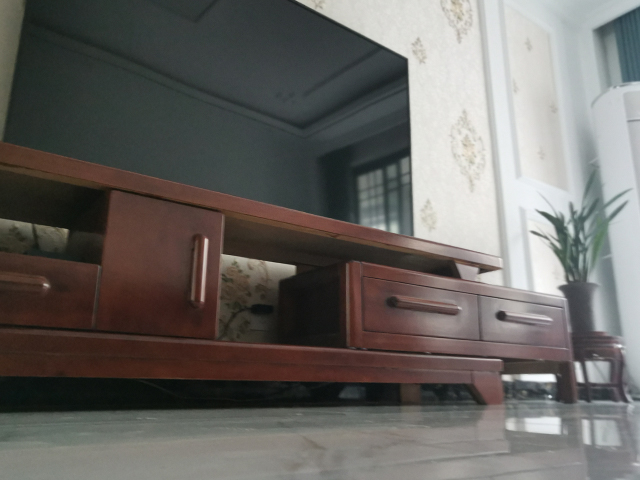cabinet: (1, 140, 579, 408)
stool: (571, 329, 635, 407)
wire: (134, 379, 340, 402)
